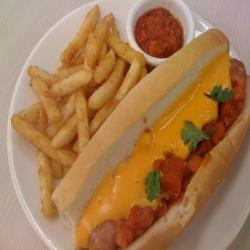fries: (24, 32, 134, 153)
hotdog: (59, 34, 248, 248)
ketchup: (129, 5, 190, 61)
